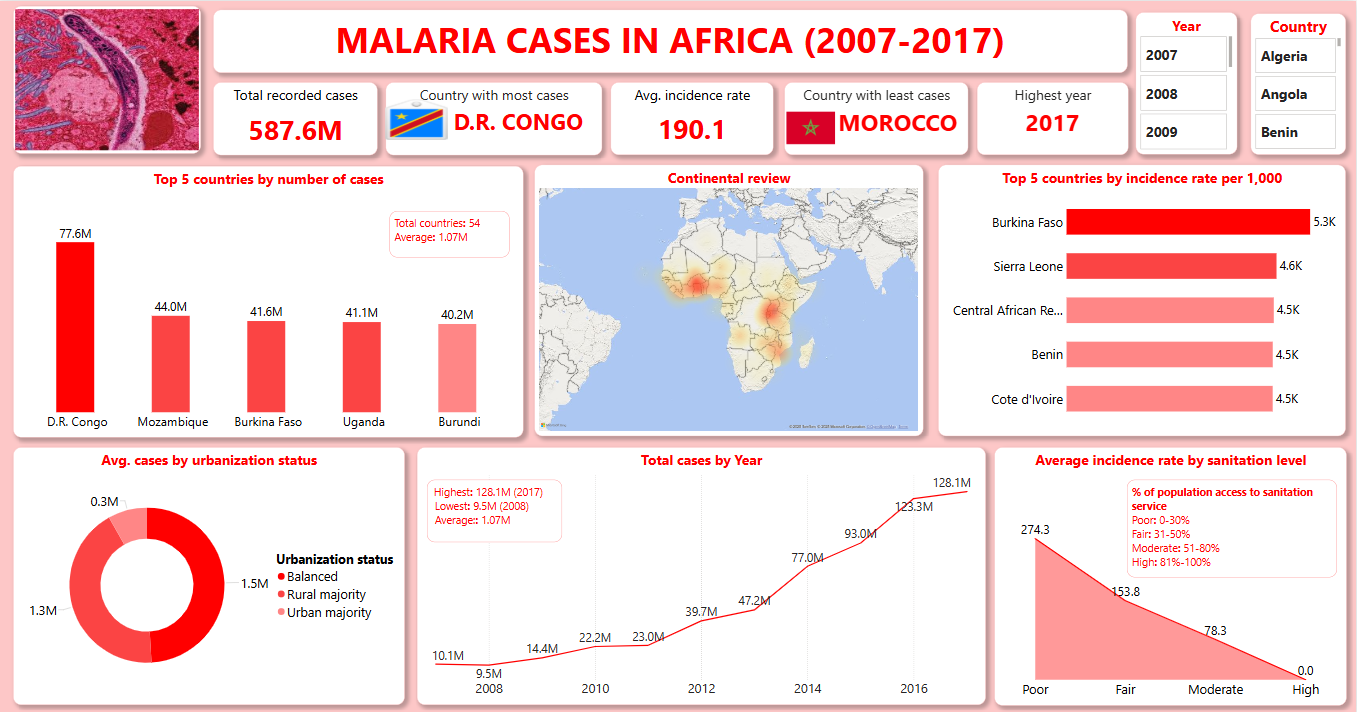

The page's visual inventory and layout, read from the dashboard file:
{"tool":"powerbi","page":{"name":"Overview board","canvas":[3400,1800],"ordinal":0},"visuals":[{"type":"columnChart","title":"Top 5 countries by number of cases ","fields":{"Category":["DatasetAfricaMalaria.Country Name"],"Y":["Sum(DatasetAfricaMalaria.Malaria cases reported)"]},"box":[40.6,412.5,1275,678.1],"z":0},{"type":"textbox","box":[540.5,21.6,2285.6,157.5],"z":1000},{"type":"barChart","title":"Top 5 countries by incidence rate per 1,000","fields":{"Category":["DatasetAfricaMalaria.Country Name"],"Y":["Sum(DatasetAfricaMalaria.Incidence of malaria (per 1,000 population at risk))"]},"box":[2353.1,409.4,1018.8,678.1],"z":2000},{"type":"donutChart","title":"Avg. cases by urbanization status","fields":{"Category":["DatasetAfricaMalaria.Country devpt"],"Y":["DatasetAfricaMalaria.Average of cases"]},"box":[40.6,1115.6,978.1,643.8],"z":3000},{"type":"areaChart","title":"Average incidence rate by sanitation level","fields":{"Category":["DatasetAfricaMalaria.Sanitation level"],"Y":["Avg(DatasetAfricaMalaria.Incidence of malaria (per 1,000 population at risk))"]},"box":[2492.6,1115,880.3,645.5],"z":4000},{"type":"textbox","box":[40.6,12.5,468.8,368.8],"z":5000},{"type":"card","title":"Total recorded cases","fields":{"Values":["Sum(DatasetAfricaMalaria.Malaria cases reported)"]},"box":[540.5,203.9,410.8,182.2],"z":6000},{"type":"textbox","title":"Country with most cases","box":[972.9,203.9,540.5,182.2],"z":7000},{"type":"advancedSlicerVisual","fields":{"Values":["DatasetAfricaMalaria.Year"]},"box":[2847.8,27.8,253.3,355.2],"z":8000},{"type":"advancedSlicerVisual","fields":{"Values":["DatasetAfricaMalaria.Country Name"]},"box":[3134.4,31.2,237.5,353.1],"z":9000},{"type":"card","title":"Avg. incidence rate","fields":{"Values":["DatasetAfricaMalaria.Average incidence rate"]},"box":[1534.4,203.1,406.2,181.2],"z":10000},{"type":"image","box":[40.6,15.6,468.8,362.5],"z":11000},{"type":"image","box":[966.8,240.9,166.8,111.2],"z":12000},{"type":"textbox","box":[2825,1196.9,525,243.8],"z":13000},{"type":"textbox","box":[981.2,525,300,115.6],"z":14000},{"type":"lineChart","fields":{"Category":["DatasetAfricaMalaria.Year"],"Y":["DatasetAfricaMalaria.Total cases"]},"box":[1050,1115.6,1421.9,643.8],"z":15000},{"type":"textbox","box":[1075,1196.9,337.5,156.2],"z":16000},{"type":"map","title":"Continental review","fields":{"Category":["DatasetAfricaMalaria.Country "],"Size":["Sum(DatasetAfricaMalaria.Malaria cases reported)"]},"box":[1343.8,409.4,971.9,678.1],"z":17000},{"type":"textbox","title":"Country with least cases","box":[1968.8,203.1,459.4,181.2],"z":18000},{"type":"image","box":[1968.8,250,131.2,134.4],"z":19000},{"type":"textbox","title":"Highest year","box":[2450,203.1,378.1,181.2],"z":20000}]}

Visuals, with their boxes in screenshot pixels (x1, y1, x2, y2), scaled from the page's 3400x1800 canvas onto the 1357x712 screenshot:
"Top 5 countries by number of cases " columnChart: [16,163,525,431]
textbox: [216,9,1128,71]
"Top 5 countries by incidence rate per 1,000" barChart: [939,162,1346,430]
"Avg. cases by urbanization status" donutChart: [16,441,407,696]
"Average incidence rate by sanitation level" areaChart: [995,441,1346,696]
textbox: [16,5,203,151]
"Total recorded cases" card: [216,81,380,153]
"Country with most cases" textbox: [388,81,604,153]
advancedSlicerVisual - DatasetAfricaMalaria.Year: [1137,11,1238,151]
advancedSlicerVisual - DatasetAfricaMalaria.Country Name: [1251,12,1346,152]
"Avg. incidence rate" card: [612,80,775,152]
image: [16,6,203,150]
image: [386,95,452,139]
textbox: [1128,473,1337,570]
textbox: [392,208,511,253]
lineChart - DatasetAfricaMalaria.Year x DatasetAfricaMalaria.Total cases: [419,441,987,696]
textbox: [429,473,564,535]
"Continental review" map: [536,162,924,430]
"Country with least cases" textbox: [786,80,969,152]
image: [786,99,838,152]
"Highest year" textbox: [978,80,1129,152]
